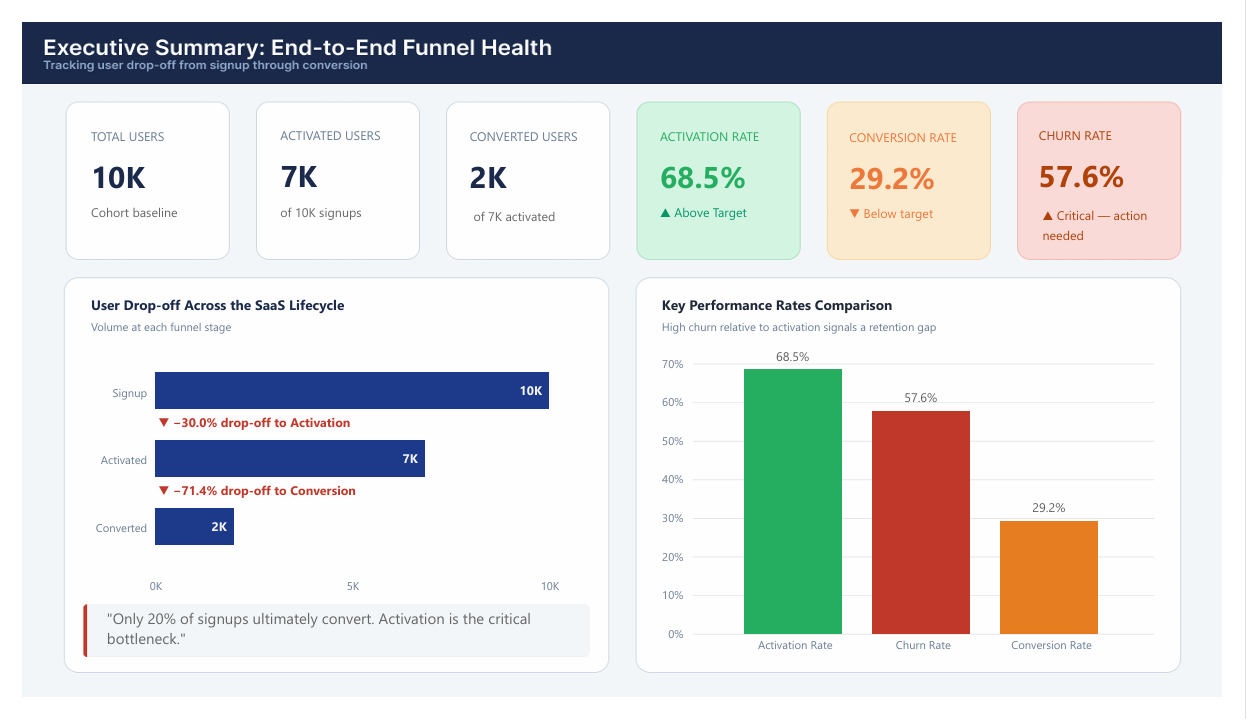

What the dashboard file says about the page in this screenshot:
{"tool":"powerbi","page":{"name":"Executive Page","canvas":[1280,720],"ordinal":0},"visuals":[{"type":"cardVisual","title":"TOTAL USERS","fields":{"Data":["saas_funnel_cleaned.Total Users"]},"box":[67.8,111.8,150,140],"z":0},{"type":"cardVisual","title":"ACTIVATED USERS","fields":{"Data":["saas_funnel_cleaned.Activated Users"]},"box":[270.1,111.1,150,139.9],"z":1000},{"type":"cardVisual","title":"CONVERTED USERS","fields":{"Data":["saas_funnel_cleaned.Converted Users"]},"box":[472.4,112.1,150,140],"z":2000},{"type":"cardVisual","title":"CONVERSION RATE","fields":{"Data":["saas_funnel_cleaned.Conversion Rate"]},"box":[876.9,112.9,150,140],"z":3000},{"type":"cardVisual","title":"CHURN RATE","fields":{"Data":["saas_funnel_cleaned.Churn Rate"]},"box":[1079.2,111.4,150,140],"z":4000},{"type":"textbox","box":[85,620,541,63.5],"z":5000},{"type":"clusteredBarChart","title":"User Drop-off Across the SaaS Lifecycle","fields":{"Category":["Funnel_Stage.Stage"],"Y":["Funnel_Stage.Funnel Value"]},"box":[67.8,291.4,539.6,327.5],"z":6000},{"type":"columnChart","title":"Key Performance Rates Comparison","fields":{"Category":["Rate_Table.Metric"],"Y":["Rate_Table.Rate Value"]},"box":[676.7,291.4,535.3,391],"z":7000},{"type":"cardVisual","title":"ACTIVATION RATE","fields":{"Data":["saas_funnel_cleaned.Activation Rate"]},"box":[674.7,112.5,150,140],"z":8000},{"type":"textbox","box":[139.9,412.6,272.7,33.2],"z":9000},{"type":"textbox","box":[140,485,300.1,33.2],"z":10000}]}

Visuals, with their boxes in screenshot pixels (x1, y1, x2, y2), scaled from the page's 1280x720 canvas onto the 1246x719 screenshot:
"TOTAL USERS" cardVisual: box(66, 112, 212, 251)
"ACTIVATED USERS" cardVisual: box(263, 111, 409, 251)
"CONVERTED USERS" cardVisual: box(460, 112, 606, 252)
"CONVERSION RATE" cardVisual: box(854, 113, 1000, 253)
"CHURN RATE" cardVisual: box(1051, 111, 1197, 251)
textbox: box(83, 619, 609, 683)
"User Drop-off Across the SaaS Lifecycle" clusteredBarChart: box(66, 291, 591, 618)
"Key Performance Rates Comparison" columnChart: box(659, 291, 1180, 681)
"ACTIVATION RATE" cardVisual: box(657, 112, 803, 252)
textbox: box(136, 412, 402, 445)
textbox: box(136, 484, 428, 517)
